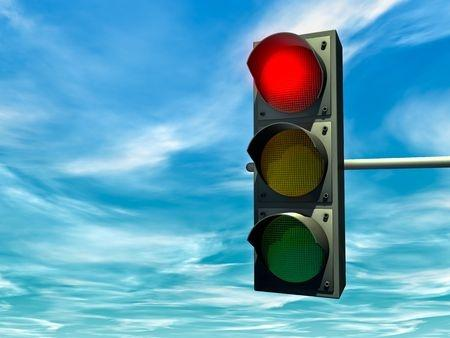traffic light: (229, 26, 366, 313)
